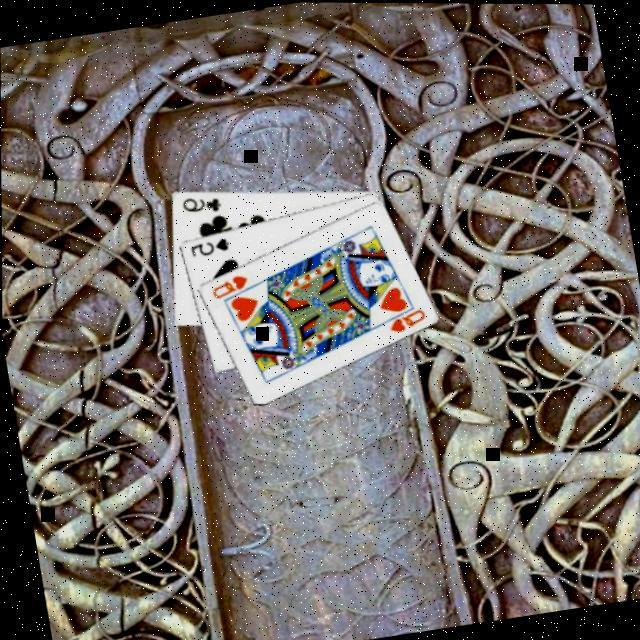5S: (186, 231, 233, 259)
9C: (178, 186, 225, 217)
QH: (376, 299, 430, 335), (207, 268, 253, 300)
